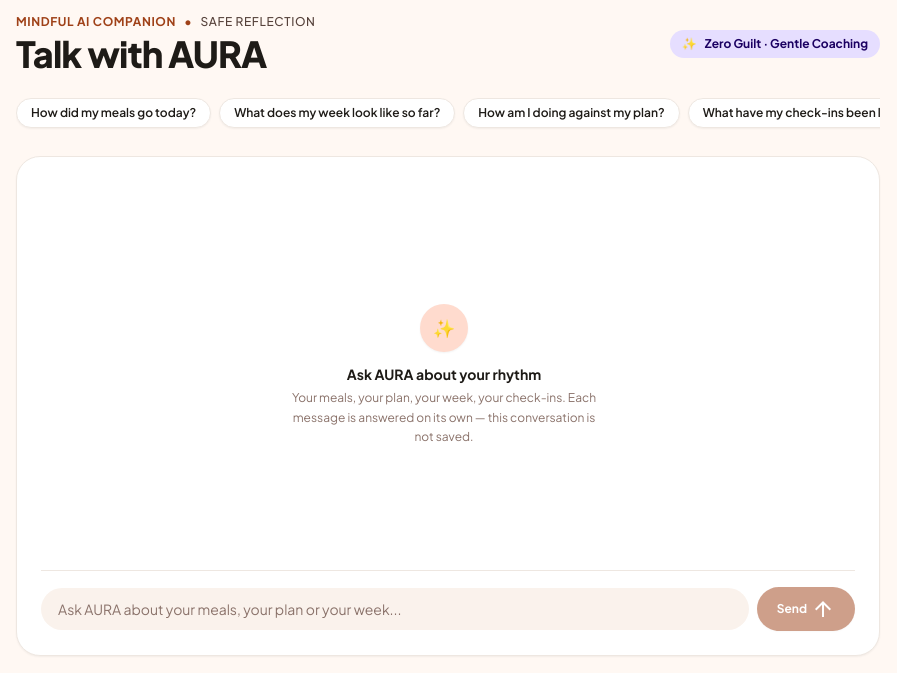
Test: the reply kinds the backend can send › shows a support reply verbatim, with nothing added to it
The width and height of the screenshot is (897, 673).
Type "I feel hopeless" into the field named "Message AURA" at (395, 609), box [41,588,749,630]
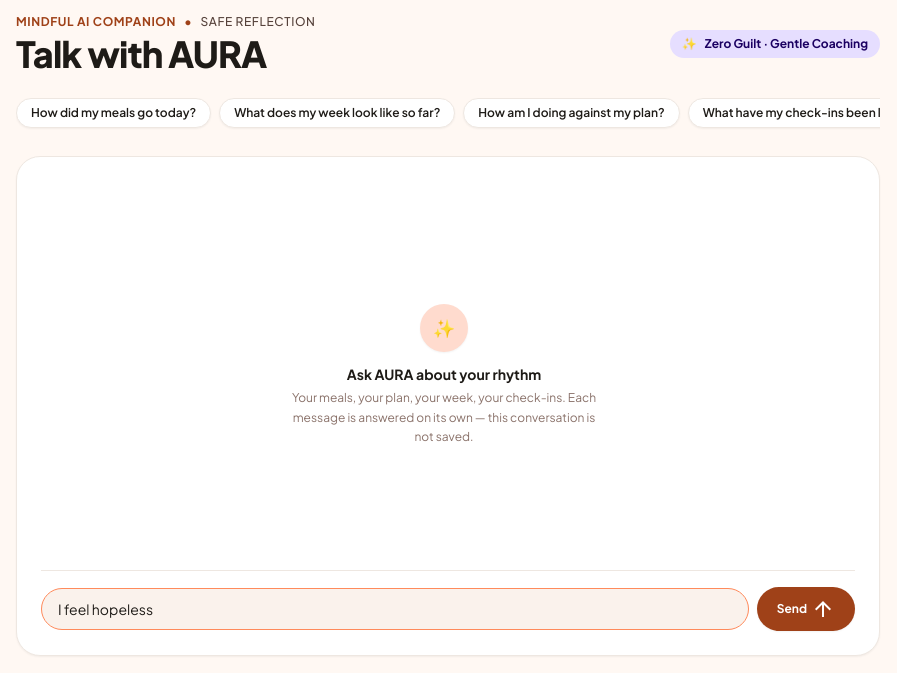
Click the button "Send" at (806, 609), box [757,587,855,631]
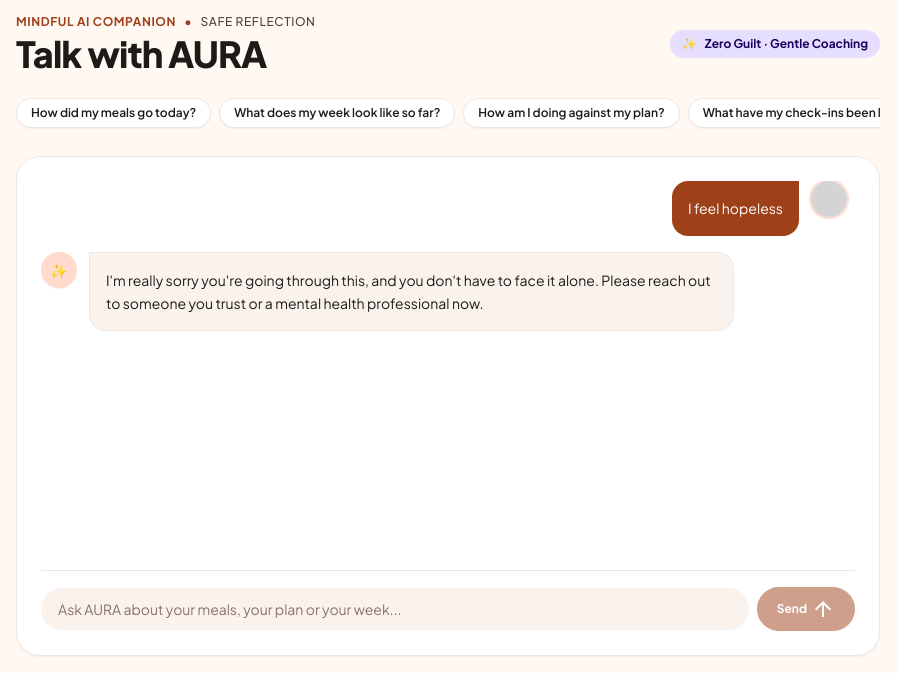
Result: the text "I'm really sorry you're going through this, and you don't have to face it alone. Please reach out to someone you trust o" is shown at [106,271,713,312]
